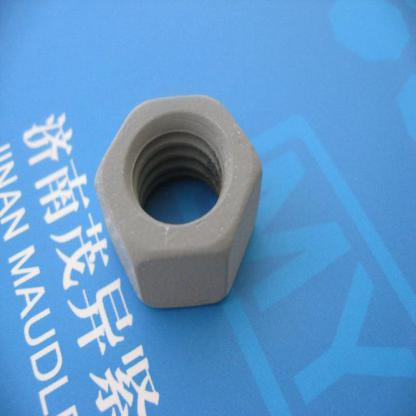FOD: (91, 90, 266, 311)
